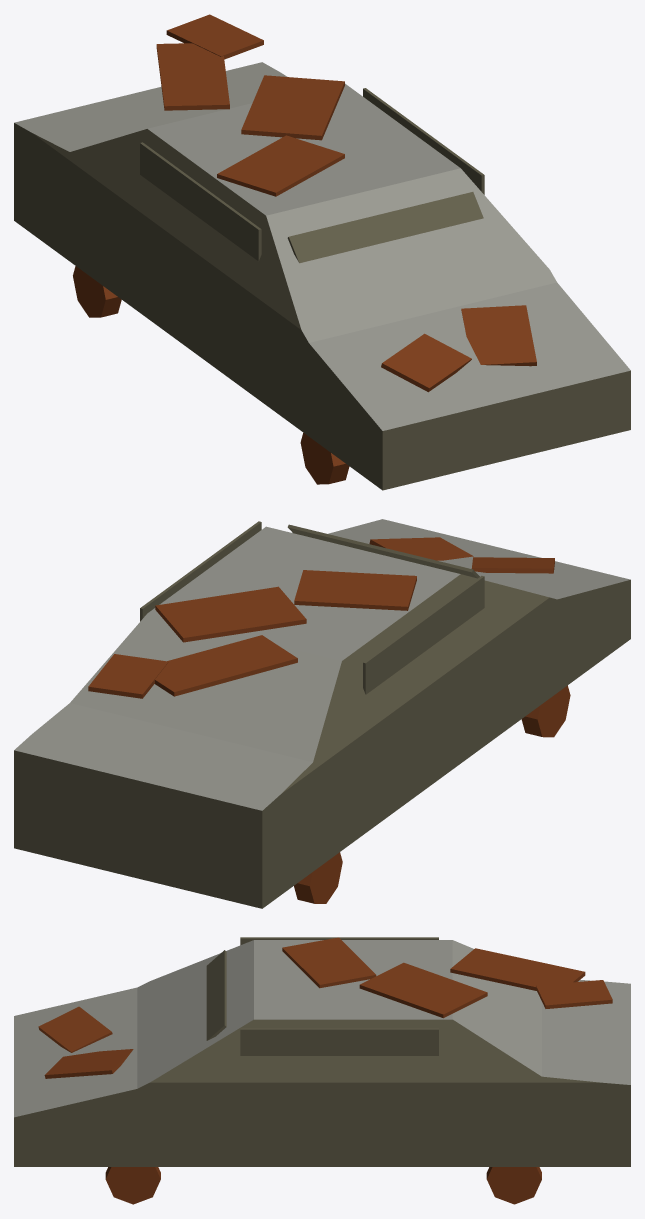
File: SM_CocheCivil_Berlina_v4_LOD0.fbx
The picture shows the model from 3 angles, top to bottom: view 1: azimuth 30°, elevation 25°; view 2: azimuth 150°, elevation 25°; view 3: azimuth 270°, elevation 25°; orthographic projection. The views are drawn at different scales.
Visible parts, largest first — view 1: SM_coche_civil_v9_LOD0; view 2: SM_coche_civil_v9_LOD0; view 3: SM_coche_civil_v9_LOD0.
Boxes of the visible parts, x1,y1,x2,y2 form: SM_coche_civil_v9_LOD0: (14, 14, 630, 490); SM_coche_civil_v9_LOD0: (14, 519, 630, 908); SM_coche_civil_v9_LOD0: (14, 937, 630, 1204).
Size of the model in its own units: 1.75 by 1.46 by 4.5.
